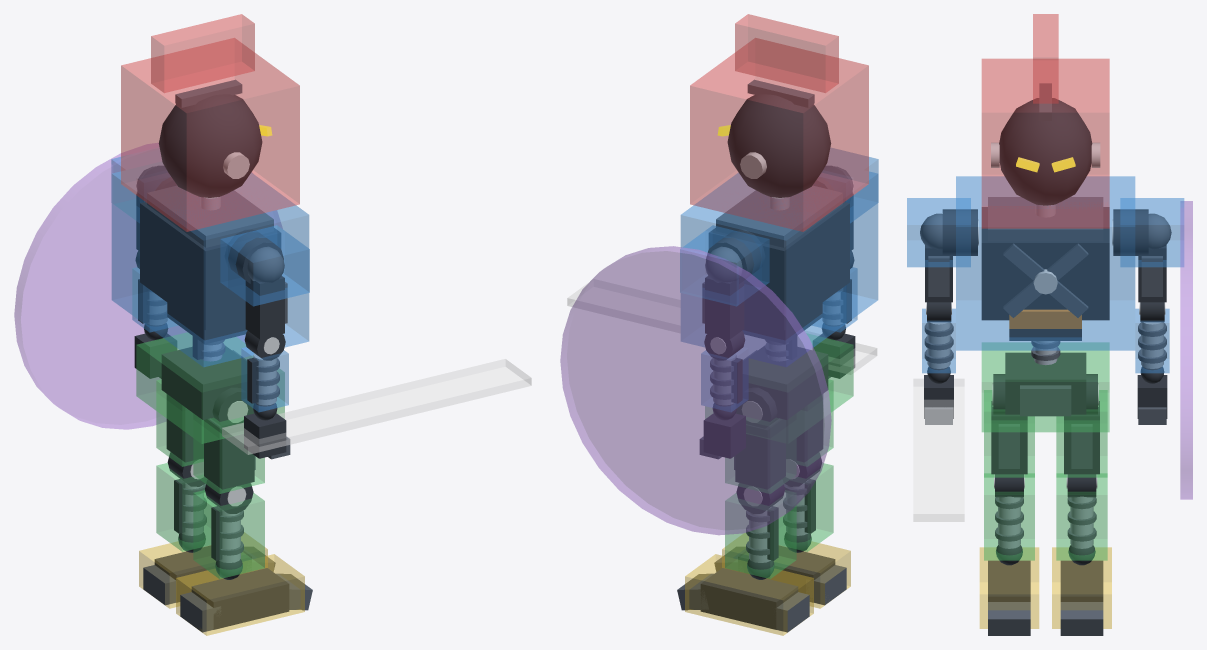
File: fit_guide.glb
The picture shows the model from 3 angles, left to right: view 1: azimuth 30°, elevation 25°; view 2: azimuth 150°, elevation 25°; view 3: azimuth 270°, elevation 25°; orthographic projection. The views are drawn at different scales.
Parts seen in each view (by area): view 1: head, forearm_L, chest, hand_R, hips, foot_R, arm_R, shin_R, leg_R, shin_L, foot_L, forearm_R (+3 smaller); view 2: forearm_L, head, chest, foot_L, hips, arm_L, shin_L, hand_R, leg_L, foot_R, shin_R, leg_R (+3 smaller); view 3: chest, head, hips, hand_R, forearm_L, arm_R, arm_L, foot_R, foot_L, shin_L, shin_R, leg_L (+3 smaller).
Part boxes in pixels (bbox=[...]): head: bbox=[121, 14, 299, 231]; forearm_L: bbox=[14, 143, 282, 429]; chest: bbox=[111, 162, 309, 367]; hand_R: bbox=[222, 359, 531, 459]; hips: bbox=[136, 332, 284, 443]; foot_R: bbox=[176, 554, 312, 635]; arm_R: bbox=[220, 225, 309, 339]; shin_R: bbox=[193, 479, 264, 579]; leg_R: bbox=[193, 387, 264, 493]; shin_L: bbox=[156, 452, 216, 552]; foot_L: bbox=[139, 532, 275, 608]; forearm_R: bbox=[241, 331, 288, 420]; forearm_L: bbox=[560, 246, 831, 535]; head: bbox=[690, 14, 868, 231]; chest: bbox=[680, 162, 878, 366]; foot_L: bbox=[677, 554, 813, 635]; hips: bbox=[705, 334, 853, 443]; arm_L: bbox=[680, 225, 769, 339]; shin_L: bbox=[725, 480, 796, 579]; hand_R: bbox=[567, 279, 877, 378]; leg_L: bbox=[725, 388, 796, 493]; foot_R: bbox=[714, 533, 850, 608]; shin_R: bbox=[779, 452, 833, 552]; leg_R: bbox=[786, 379, 833, 466]; chest: bbox=[942, 176, 1148, 365]; head: bbox=[981, 14, 1109, 228]; hips: bbox=[981, 342, 1109, 432]; hand_R: bbox=[913, 375, 964, 521]; forearm_L: bbox=[1135, 201, 1192, 499]; arm_R: bbox=[907, 198, 970, 302]; arm_L: bbox=[1120, 198, 1184, 302]; foot_R: bbox=[979, 547, 1039, 635]; foot_L: bbox=[1052, 547, 1111, 635]; shin_L: bbox=[1056, 473, 1107, 565]; shin_R: bbox=[984, 473, 1034, 565]; leg_L: bbox=[1056, 374, 1107, 477].
Bounding box in the file's own units: 0.99 × 1.46 × 0.67.
